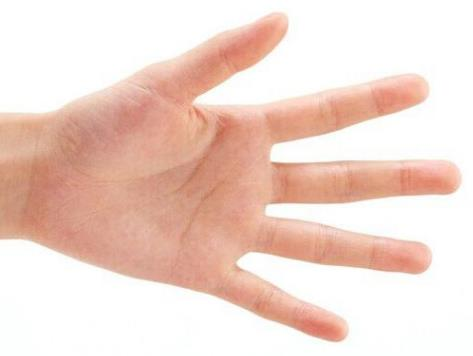down: (35, 6, 464, 343)
